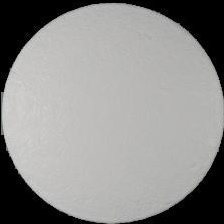63629-4899: (0, 0, 224, 224)
